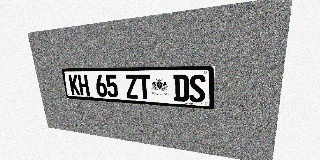5: (105, 74, 119, 98)
6: (95, 74, 108, 97)
D: (173, 74, 189, 102)
H: (77, 74, 90, 96)
K: (68, 74, 80, 95)
S: (189, 74, 206, 103)
T: (137, 74, 152, 100)
Z: (125, 74, 139, 99)
